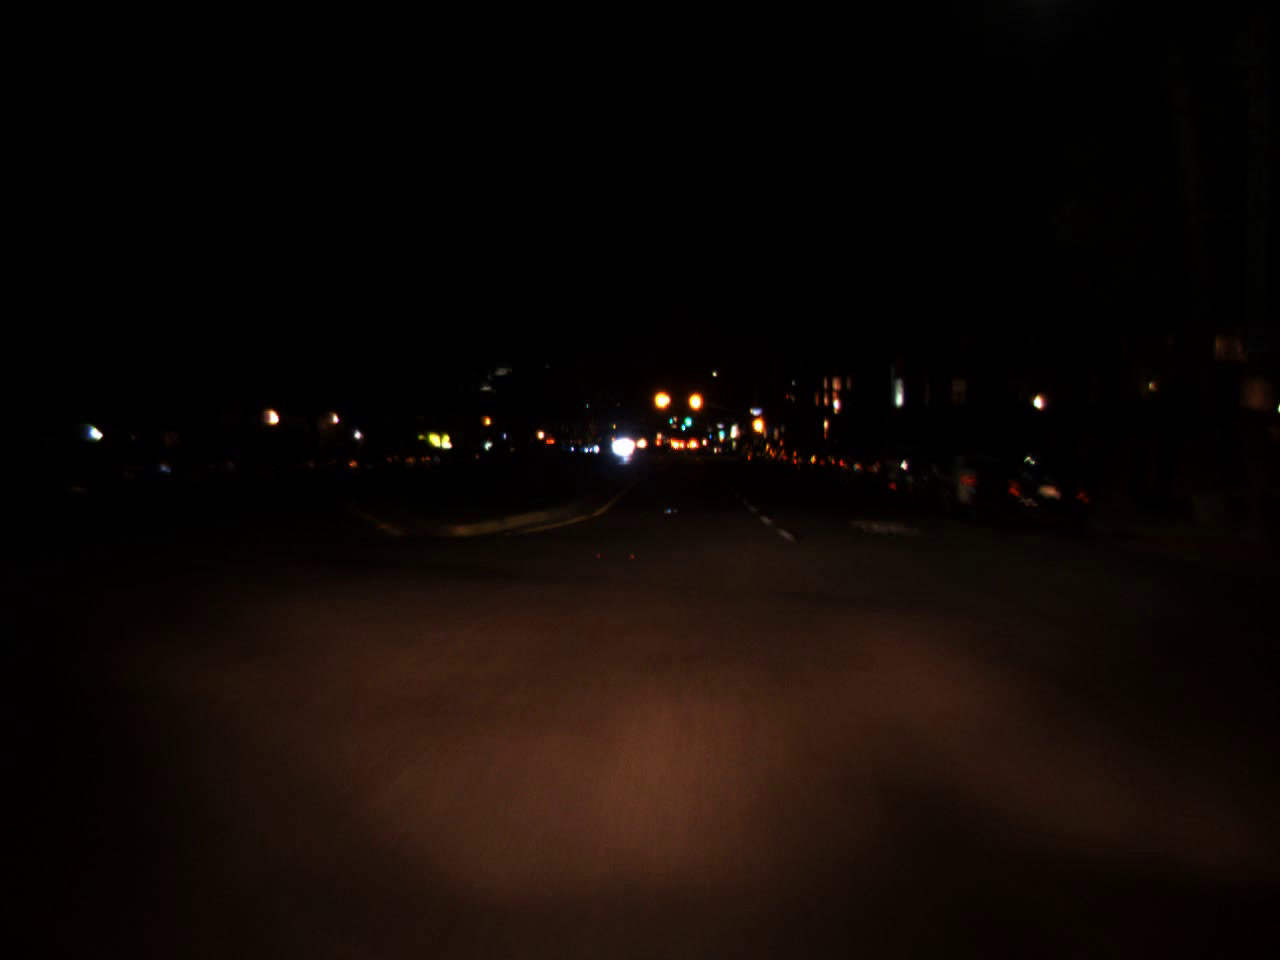go: (683, 406, 692, 430), (718, 426, 725, 438)
warning: (684, 381, 706, 421), (651, 385, 672, 410), (749, 409, 765, 436), (481, 408, 493, 430)
